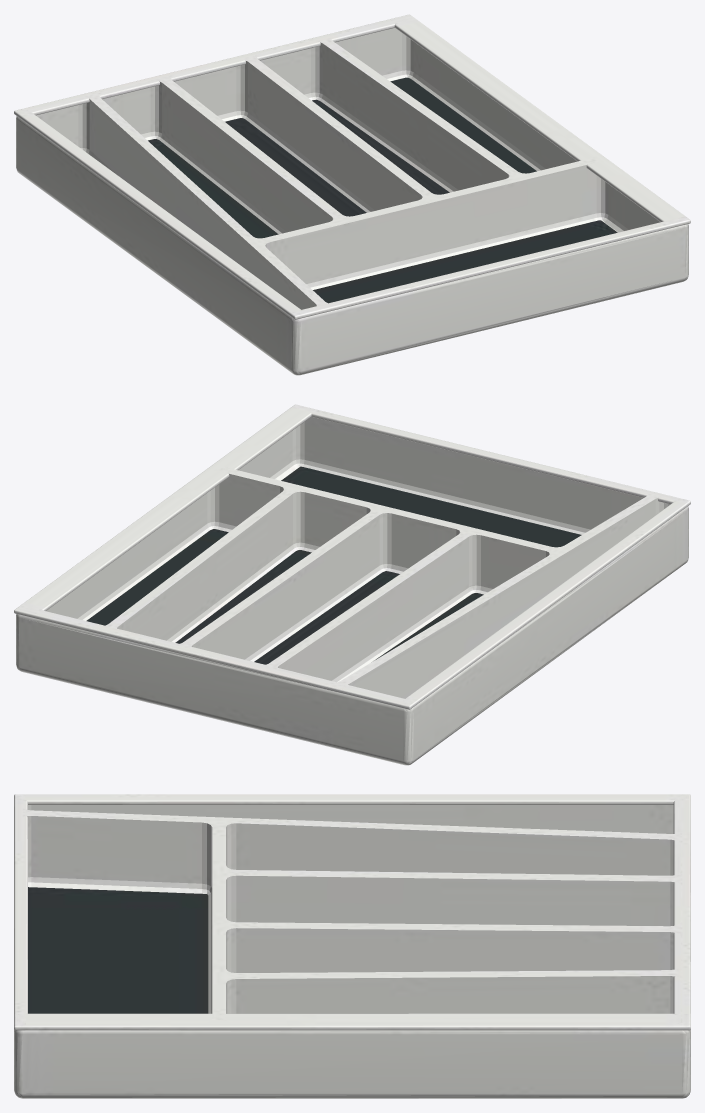
3 renders of one model, top to bottom at view 1: azimuth 30°, elevation 25°; view 2: azimuth 150°, elevation 25°; view 3: azimuth 270°, elevation 25°, orthographic. The views are drawn at different scales.
Parts seen in each view (by area): view 1: body; view 2: body; view 3: body.
Part boxes in pixels (x1=…): body: x1=14, y1=14, x2=690, y2=375; body: x1=14, y1=404, x2=690, y2=765; body: x1=14, y1=794, x2=690, y2=1098.
Bounding box in the file's own units: 0.2997 × 0.0452 × 0.3686.
2 materials, 2 textured.
